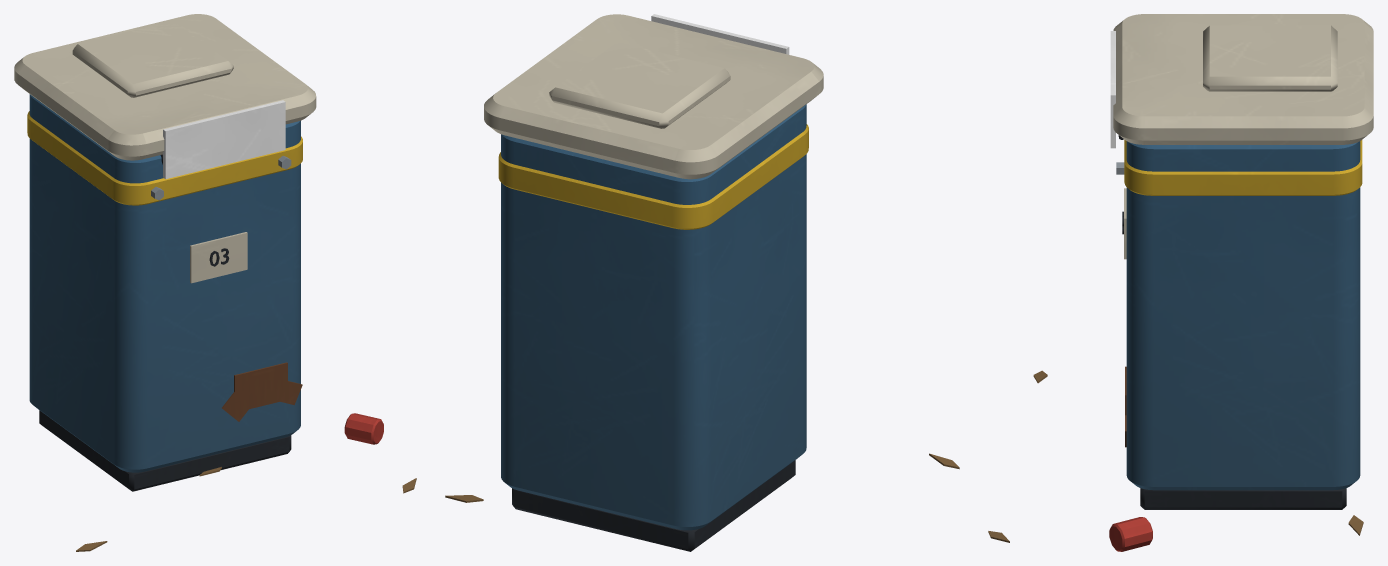
File: trash_bin.glb
The picture shows the model from 3 angles, left to right: view 1: azimuth 30°, elevation 25°; view 2: azimuth 150°, elevation 25°; view 3: azimuth 270°, elevation 25°; orthographic projection. The views are drawn at different scales.
Parts seen in each view (by area): view 1: trash_bin; view 2: trash_bin; view 3: trash_bin.
Boxes of the visible parts, x1,y1,x2,y2 form: trash_bin: (14, 14, 416, 551); trash_bin: (445, 14, 959, 551); trash_bin: (988, 14, 1373, 551).
Bounding box in the file's own units: 0.9774 × 1.03 × 0.8583.
Materials: 10 (10 with a texture image).
